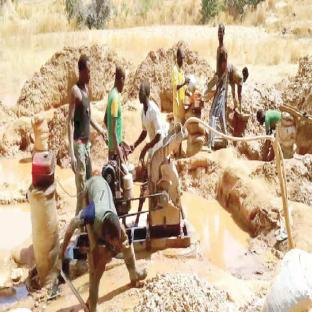Person: (78, 180, 136, 304), (66, 55, 94, 180), (103, 60, 134, 163), (136, 71, 170, 158), (166, 42, 193, 139), (212, 23, 229, 146)
ProcessingEquipment: (99, 127, 189, 250), (25, 152, 58, 194)
